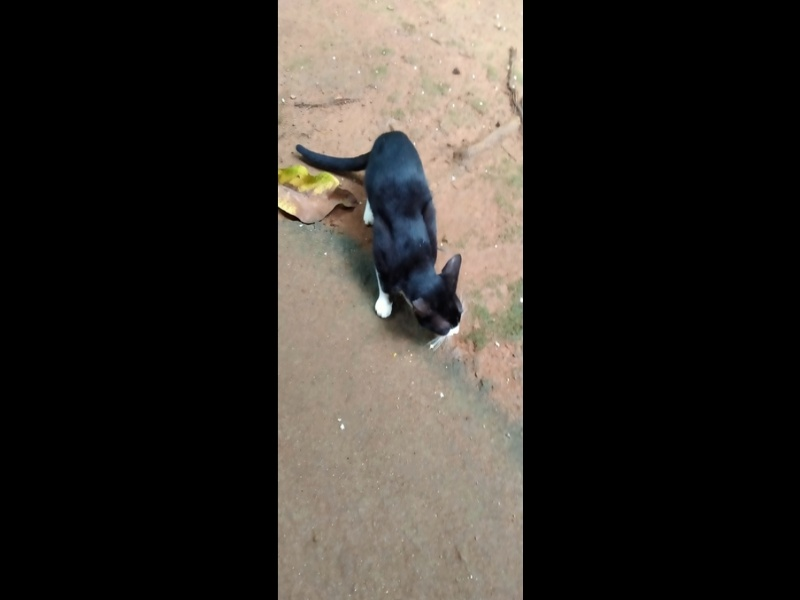cat: (290, 123, 471, 350)
